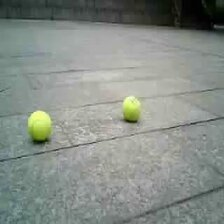tennis: (28, 112, 50, 142), (122, 95, 141, 119)
